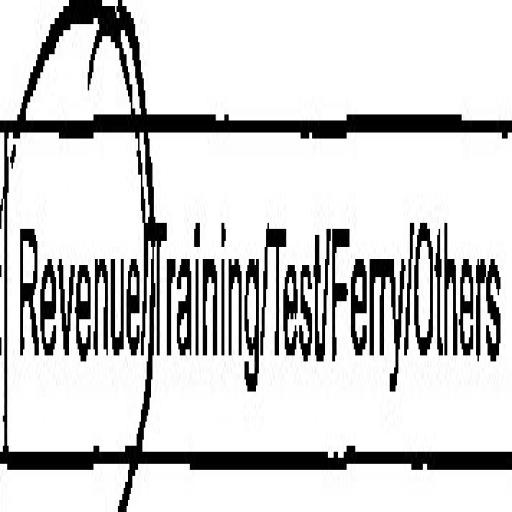check: (2, 0, 147, 512)
